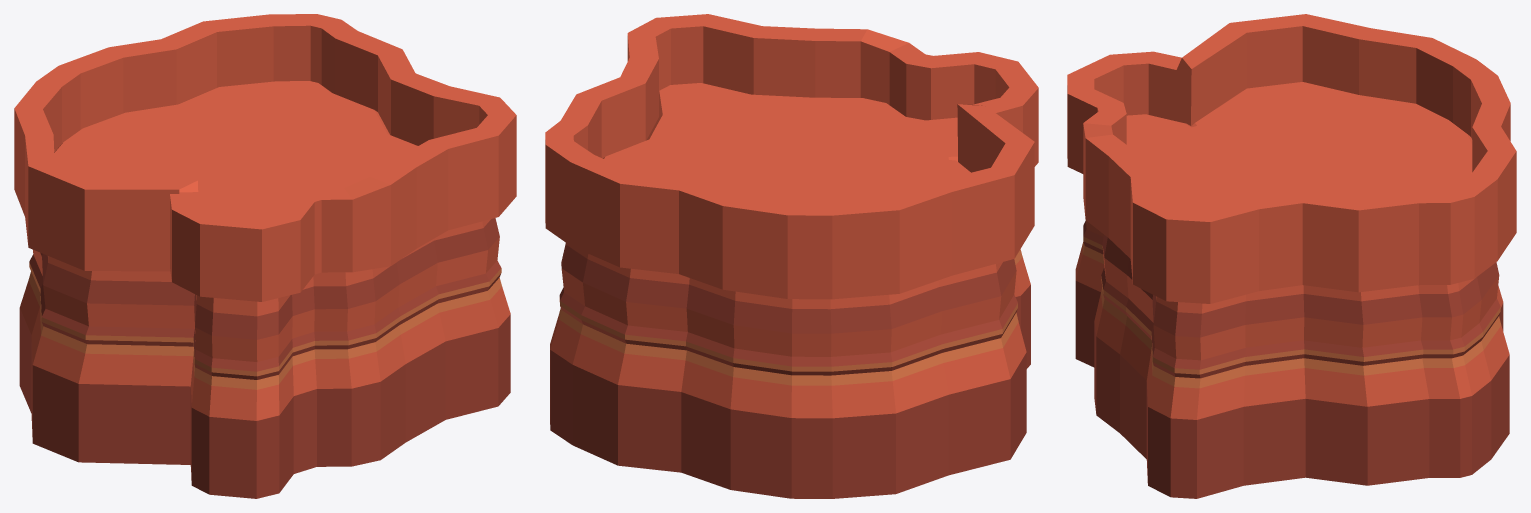
Rendered from Canyon_01.fbx.
3 renders of one model, left to right at view 1: azimuth 30°, elevation 25°; view 2: azimuth 150°, elevation 25°; view 3: azimuth 270°, elevation 25°, orthographic. The views are drawn at different scales.
Visible parts, largest first — view 1: Cube, Cube.001; view 2: Cube, Cube.001; view 3: Cube, Cube.001.
Boxes of the visible parts, x1,y1,x2,y2 form: Cube: (19,81,510,498); Cube.001: (14,14,516,301); Cube: (550,83,1030,498); Cube.001: (545,14,1038,299); Cube: (1075,82,1509,498); Cube.001: (1067,14,1516,303).
Size of the model in its own units: 1171 by 734 by 1068.
